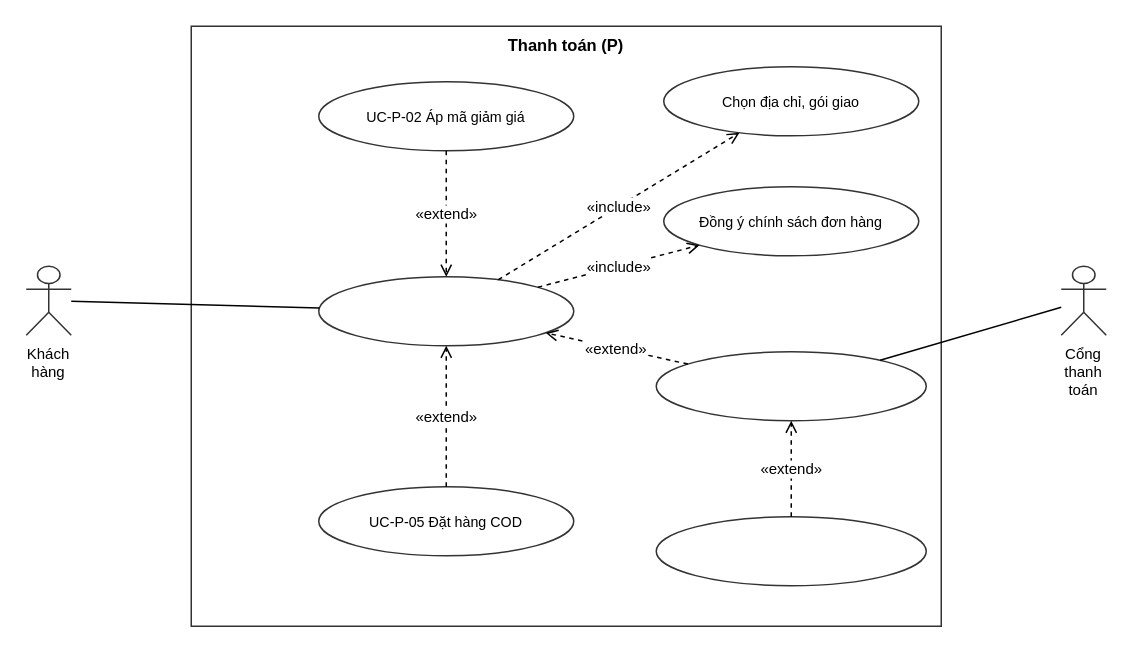
Image size: 1133x653. Some labels were removed from this diagram. The shapes that lost their labels are listed below. From the top down, each one's centre as x and y in pixels, then its label:
At (445,310): "UC-P-01 Thanh toán đơn hàng".
At (790,385): "UC-P-03 Thanh toán trực tuyến (mô phỏng)".
At (790,550): "UC-P-04 Thử lại / đổi phương thức".
